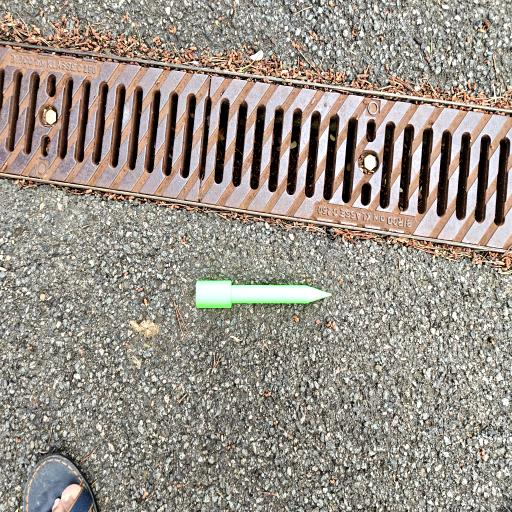Probe-Detection: (196, 280, 331, 308)
